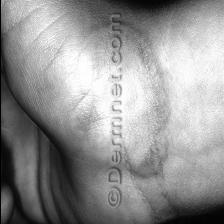Unclassified: (122, 39, 168, 179), (60, 96, 100, 150)
